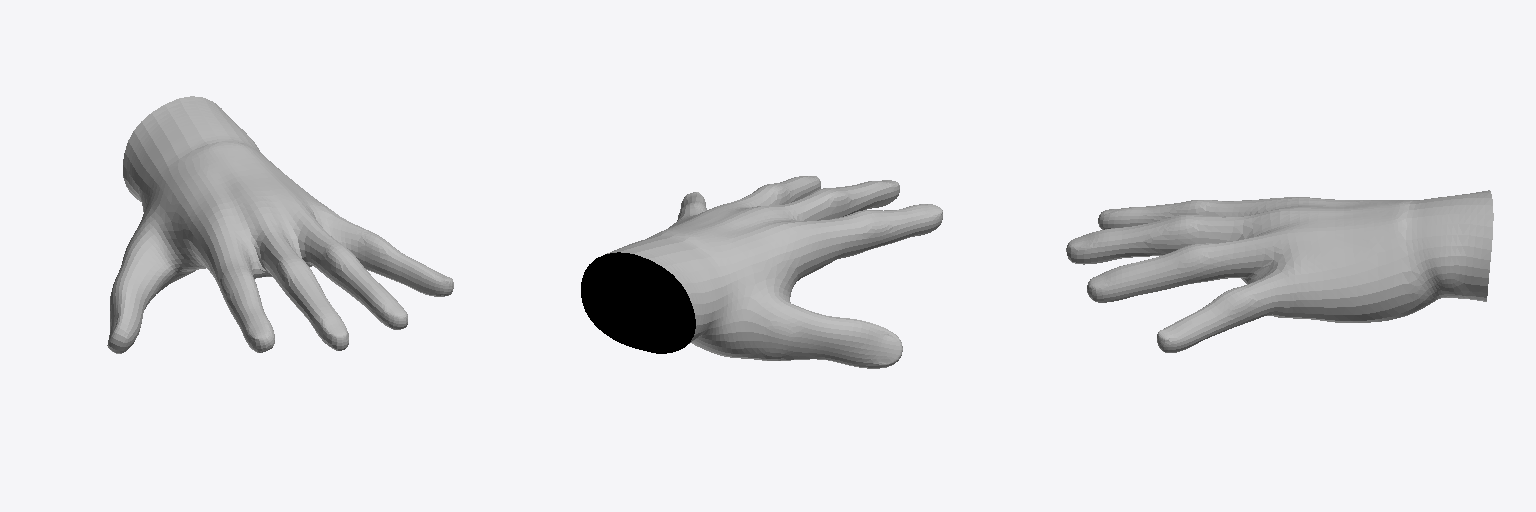
The model's file is hand.obj.
The picture shows the model from 3 angles: view 1: azimuth 30°, elevation 25°; view 2: azimuth 150°, elevation 25°; view 3: azimuth 270°, elevation 25°; orthographic projection.
Size of the model in its own units: 0.5793 by 0.2873 by 0.7645.